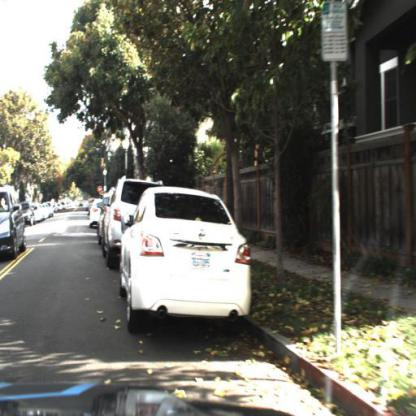car: (120, 184, 253, 332), (104, 177, 140, 265), (1, 185, 26, 274), (89, 198, 105, 231), (33, 202, 45, 224)
